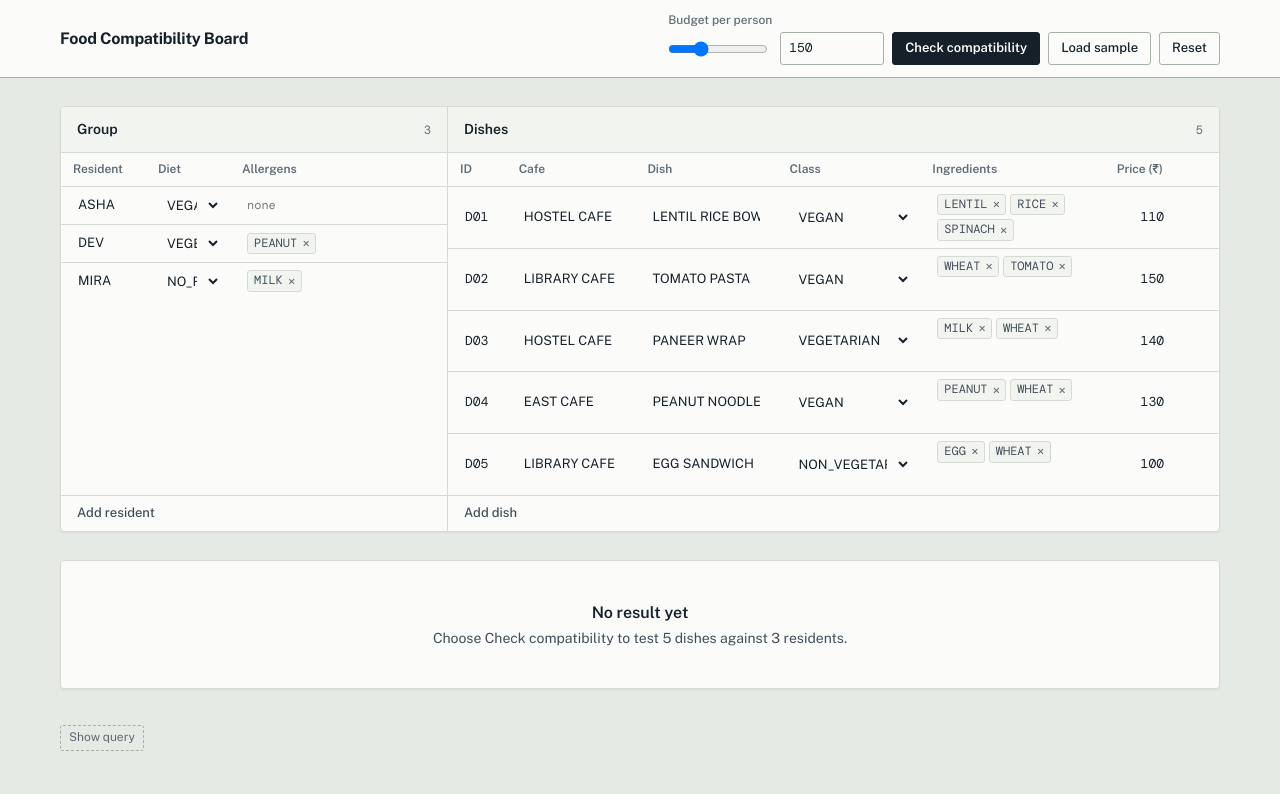
Test: AC5 — a D01 price of 0 reports INVALID_INPUT and clears the result › names dishes / D01 / price and removes every verdict row
The width and height of the screenshot is (1280, 794).
Click the button "Check compatibility" at (966, 49), box [892,32,1040,65]
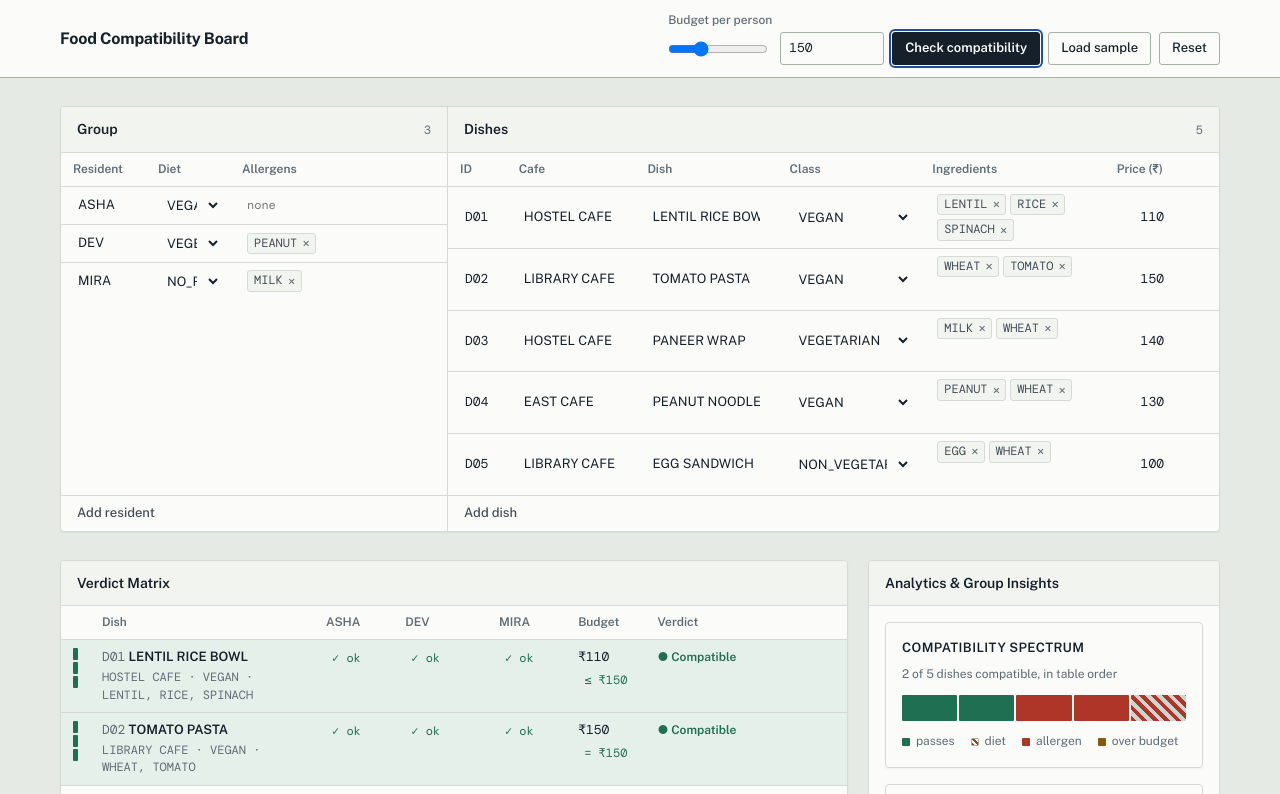
Replace the text in the field named "Dish 1 price in rupees" with "0" at (1143, 217), box [1113,202,1173,233]
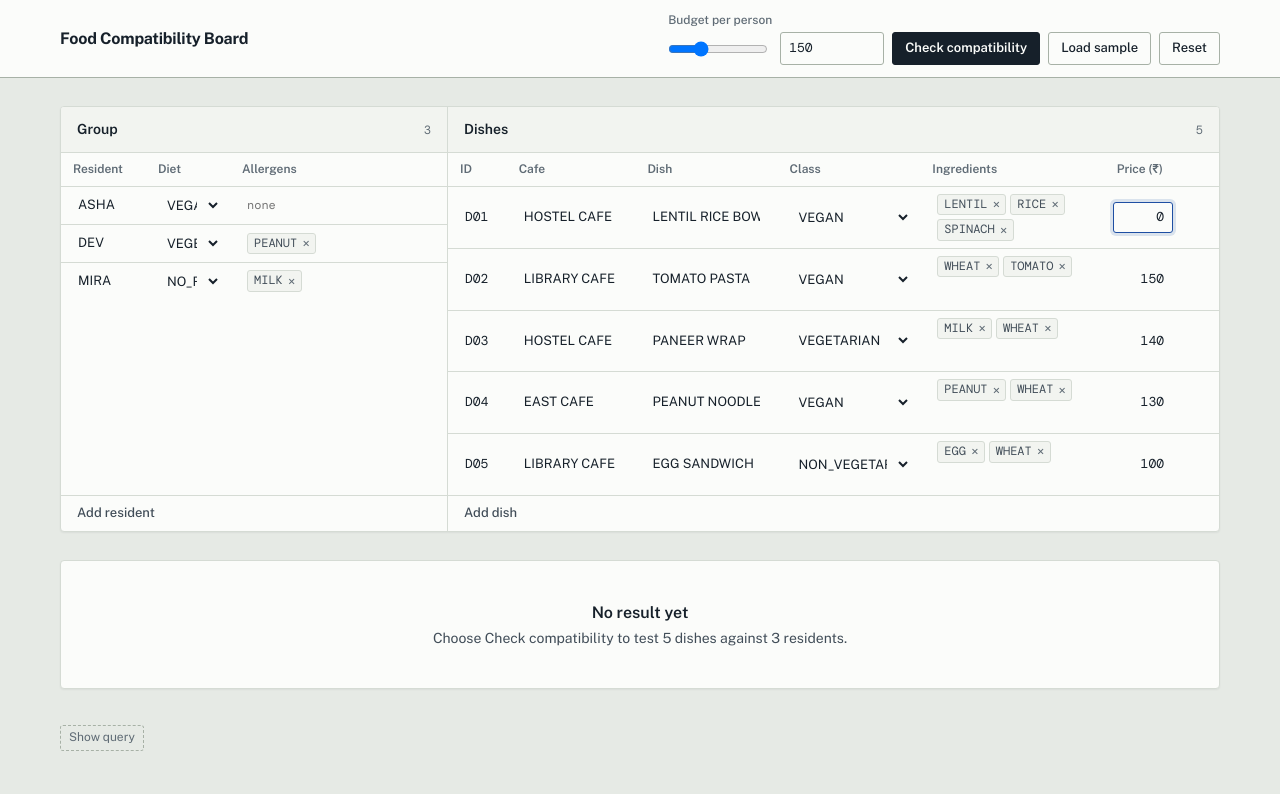
Click the button "Check compatibility" at (966, 49), box [892,32,1040,65]
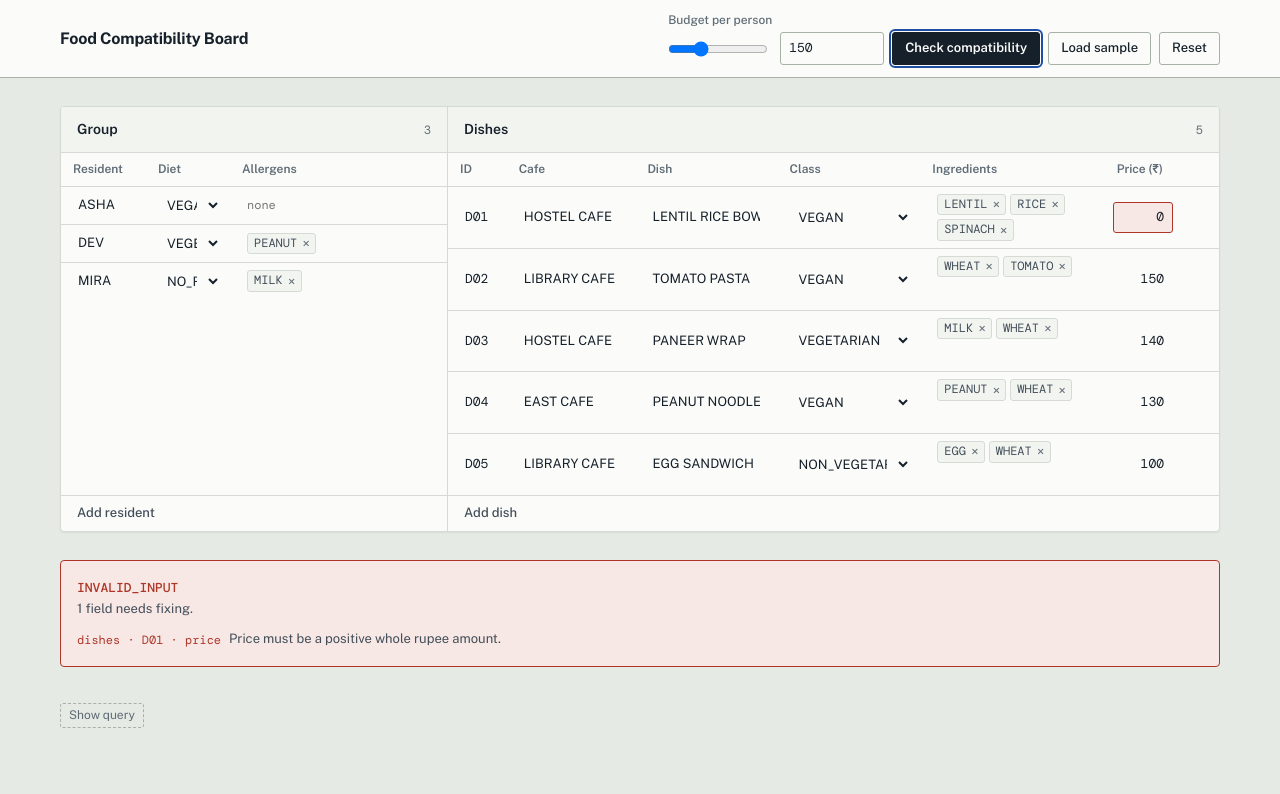
Expected: the text "● Compatible" is not shown
Result: the text "INVALID_INPUT" is shown at [77,579,178,596]
Result: the text "dishes · D01 · price" is shown at [77,630,221,650]
